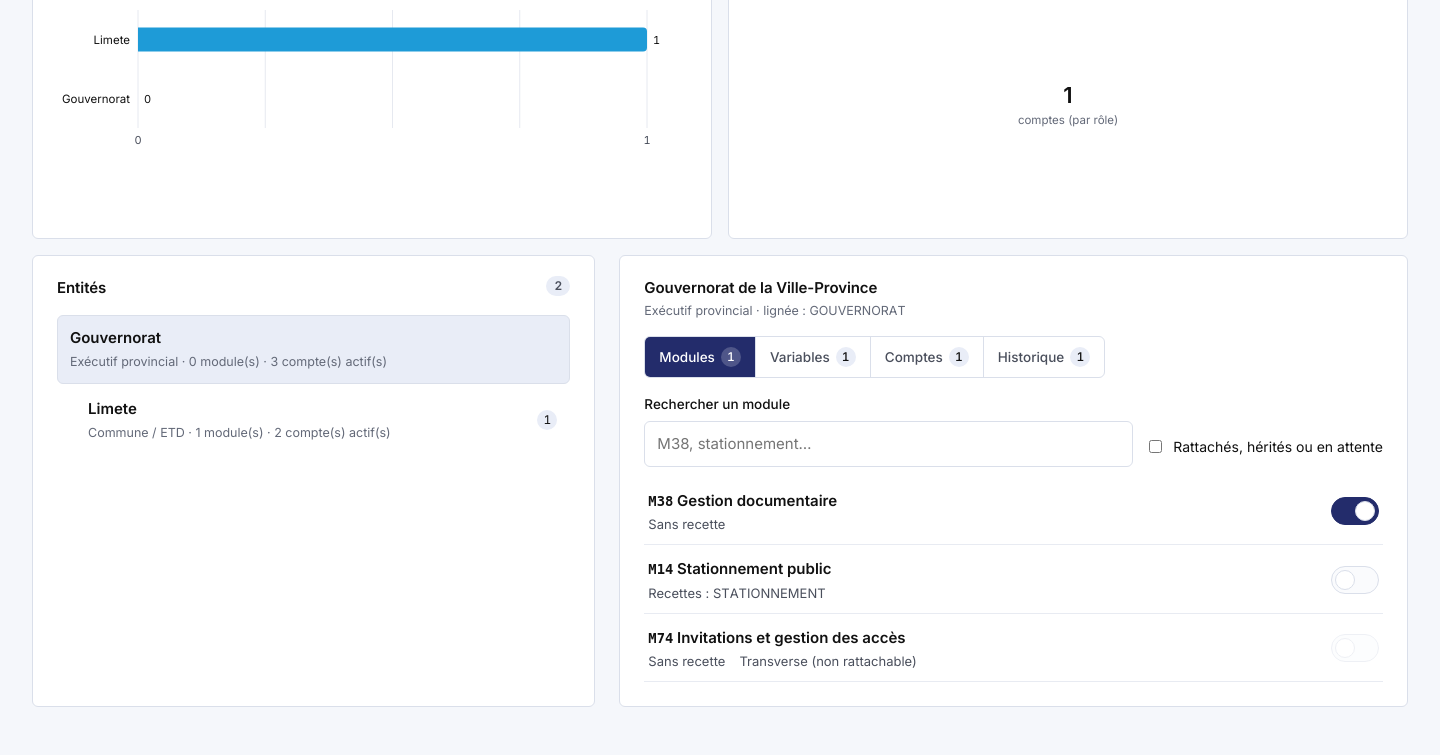
Test: Départements, modules et variables › arborescence, modules à interrupteurs (transverse désactivé), recettes signalées, variables avec provenance
Later steps or results of the test are not shown.
(page scrolled)
Expected: the switch named "Détacher M38" is shown, [1331, 497, 1379, 525]
Expected: the text "Recettes : STATIONNEMENT" is shown, [648, 582, 826, 603]
Click the switch named "Rattacher M14": (1355, 580) [1331, 566, 1379, 594]
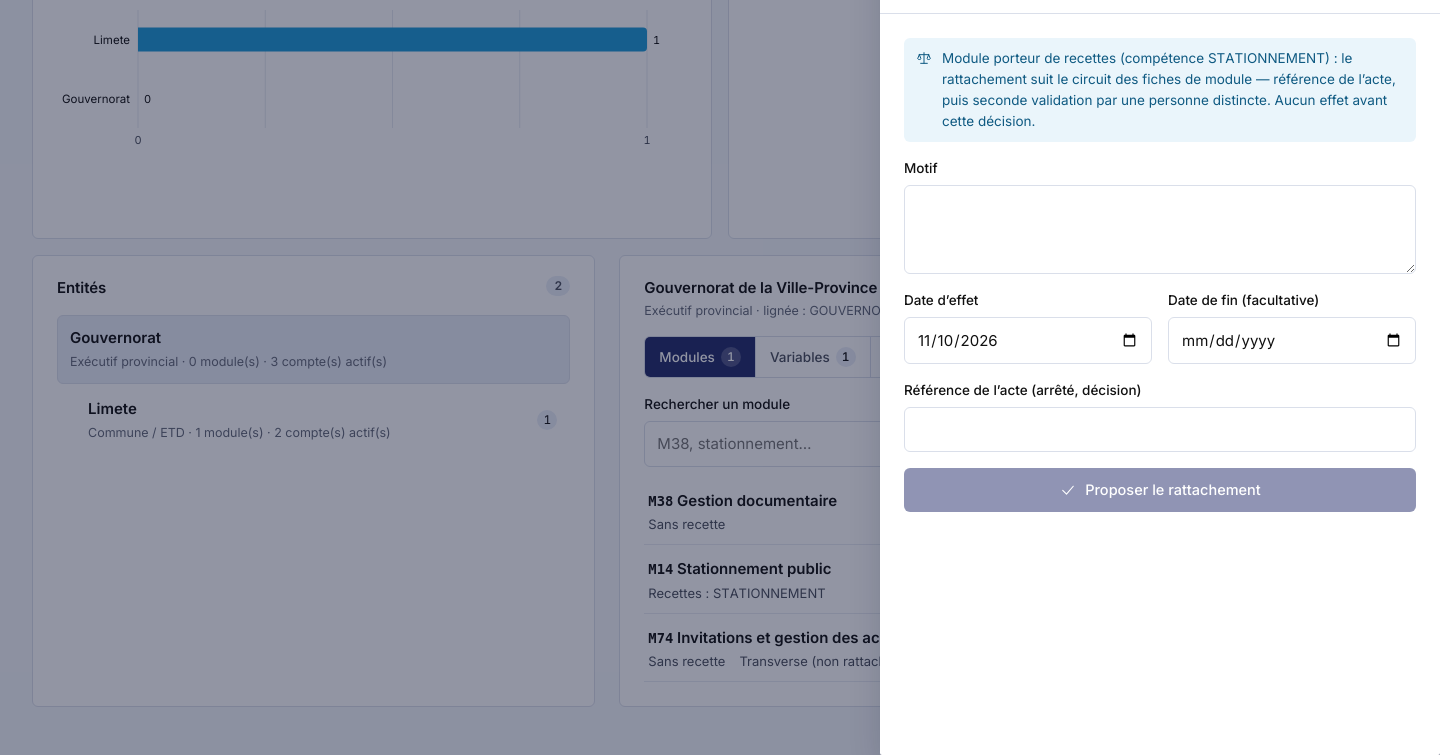
Now the field labelled "Référence de l’acte (arrêté, décision)" is shown, box [904, 407, 1416, 452]
Now the text "seconde validation par une personne distincte" is shown, box [942, 71, 1396, 129]
